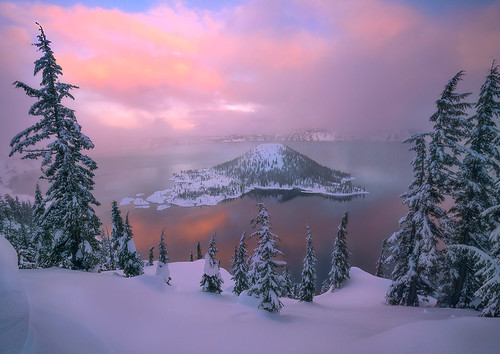mountain: (176, 133, 345, 170)
sky: (106, 1, 436, 123)
tree: (7, 30, 104, 272), (375, 75, 462, 301), (448, 71, 500, 310), (248, 200, 286, 317), (106, 209, 143, 277), (192, 231, 225, 296), (294, 227, 320, 302), (328, 211, 354, 286), (225, 238, 252, 298), (150, 229, 175, 291)
